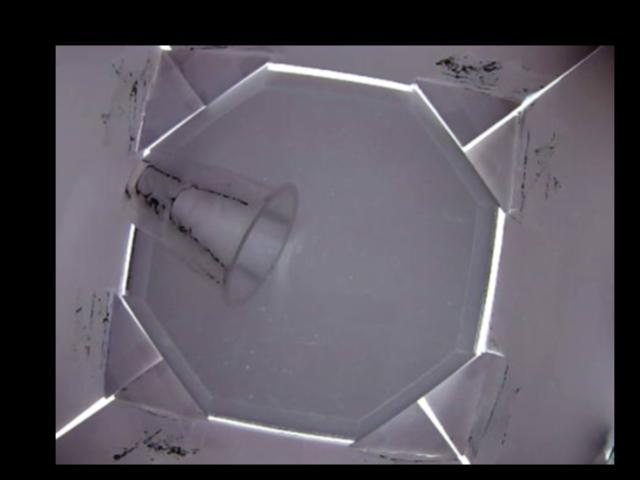Cup: (121, 148, 300, 308)
